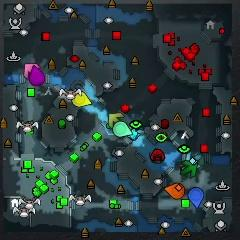p1: (187, 187, 205, 209)
p2: (112, 122, 133, 137)
p3: (29, 65, 45, 85)
p4: (72, 91, 93, 108)
p5: (164, 182, 185, 199)
x1: (22, 63, 40, 78)
x2: (108, 112, 123, 128)
x3: (187, 151, 201, 162)
x4: (181, 159, 199, 177)
